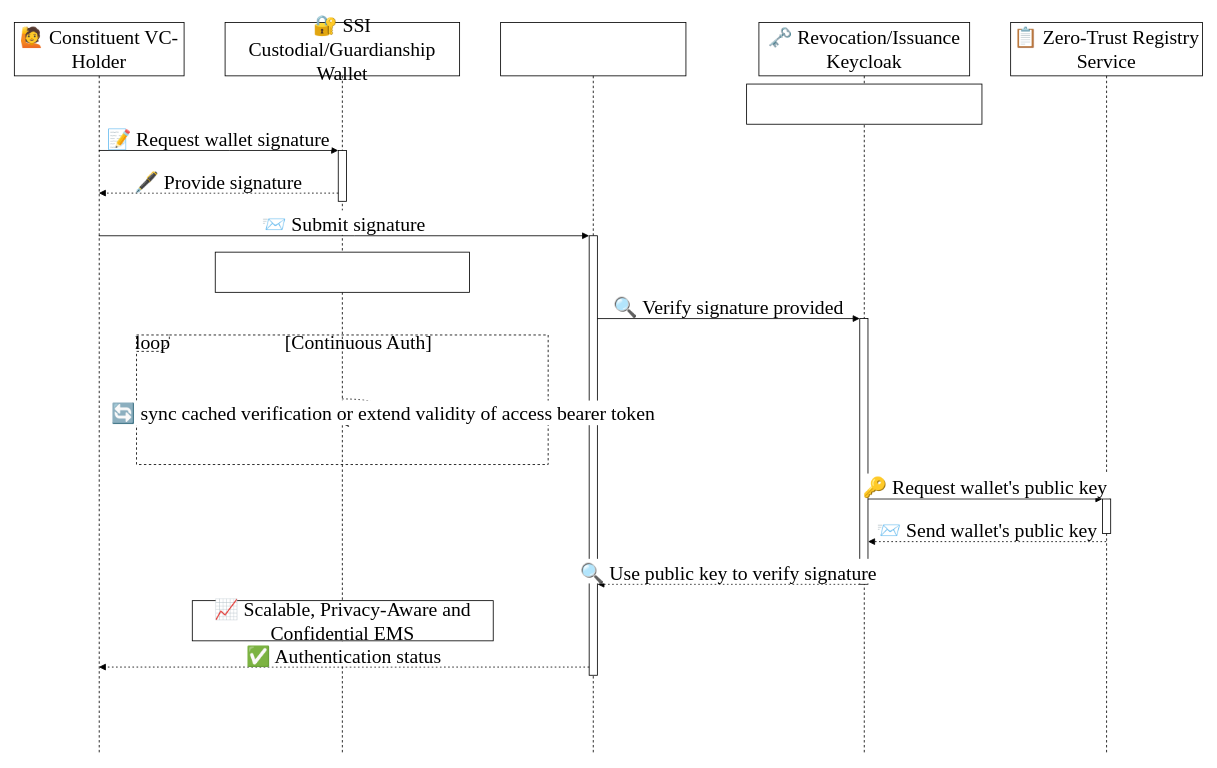
The diagram is 1217 pixels wide and 768 high, and some of its shapes have lost their labels. Each missing label, with the centre of its shape:
"🏗️ vSPACE IaC for Trust Over IP (ToIP)" goes at pixel 864 103.
"🔍 Verification Authenticator" goes at pixel 593 387.
"🔒 SSI with Zero-Trust Architecture (ZTA)" goes at pixel 341 271.
